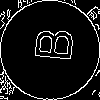B: (25, 25, 74, 63)
